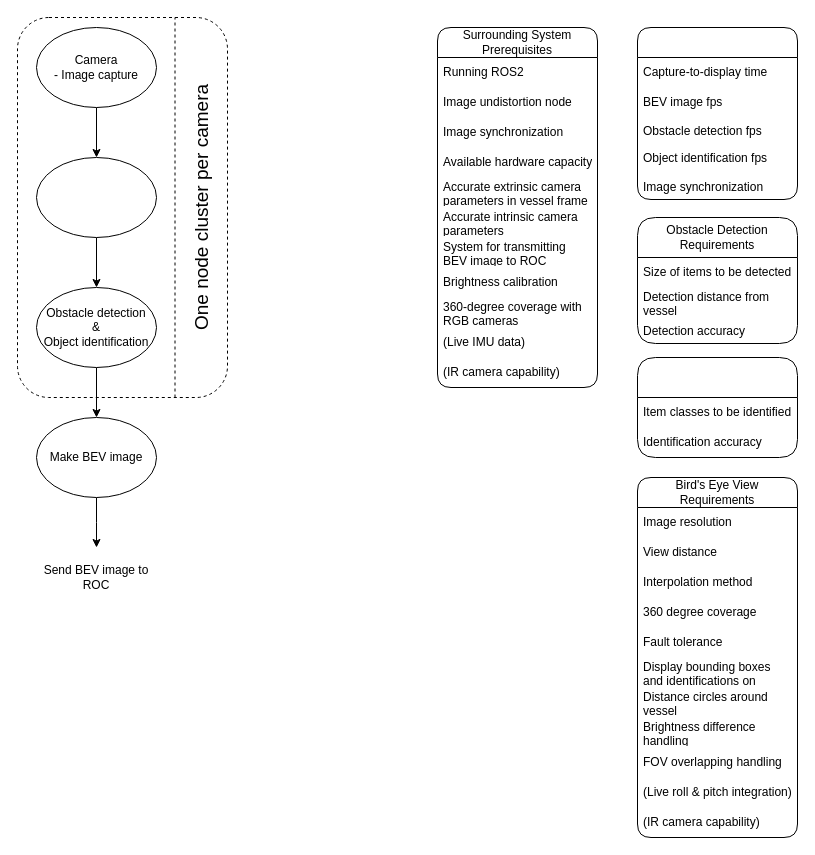
Image size: 815x855. Some labels were removed from this diagram. Each missing label, with the box of its shape:
Object Identification Requirments: (636, 356, 798, 458)
Time Requirements: (636, 26, 798, 200)
Undistort image - OpenCV: (36, 156, 156, 238)
